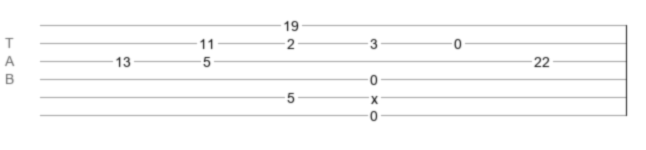0: (370, 108, 378, 118), (370, 72, 378, 82), (454, 36, 462, 46)
11: (199, 36, 215, 46)
13: (115, 54, 131, 64)
19: (283, 18, 299, 28)
2: (287, 36, 295, 46)
22: (534, 54, 550, 64)
3: (370, 36, 378, 46)
5: (203, 54, 211, 64), (287, 90, 295, 100)
x: (371, 91, 378, 99)
